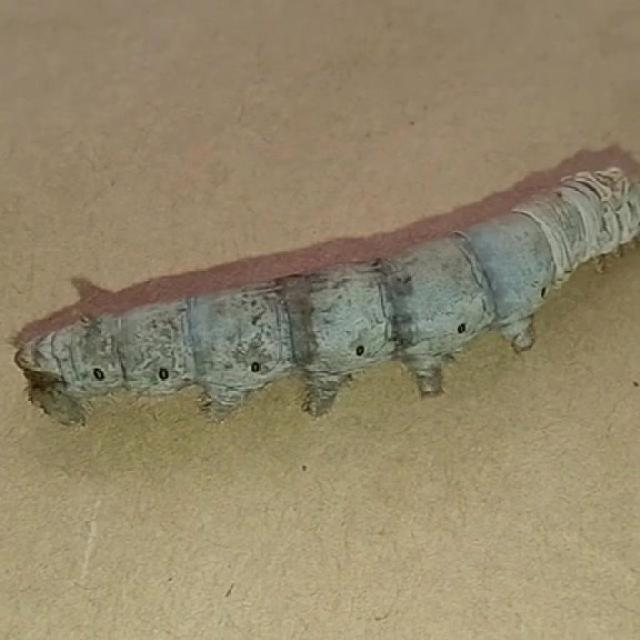Grasserie: (16, 152, 630, 458)
